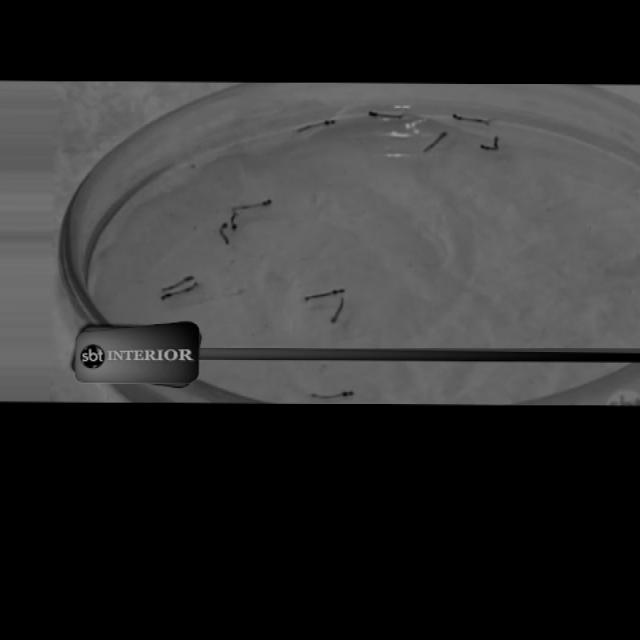larvas: (160, 278, 202, 303), (160, 272, 195, 295), (236, 192, 270, 215), (296, 115, 334, 135), (309, 387, 351, 405), (368, 105, 402, 125), (306, 285, 345, 302), (455, 112, 490, 128), (328, 302, 347, 326), (426, 133, 449, 152), (216, 222, 232, 245), (480, 132, 500, 150), (230, 205, 240, 232)
